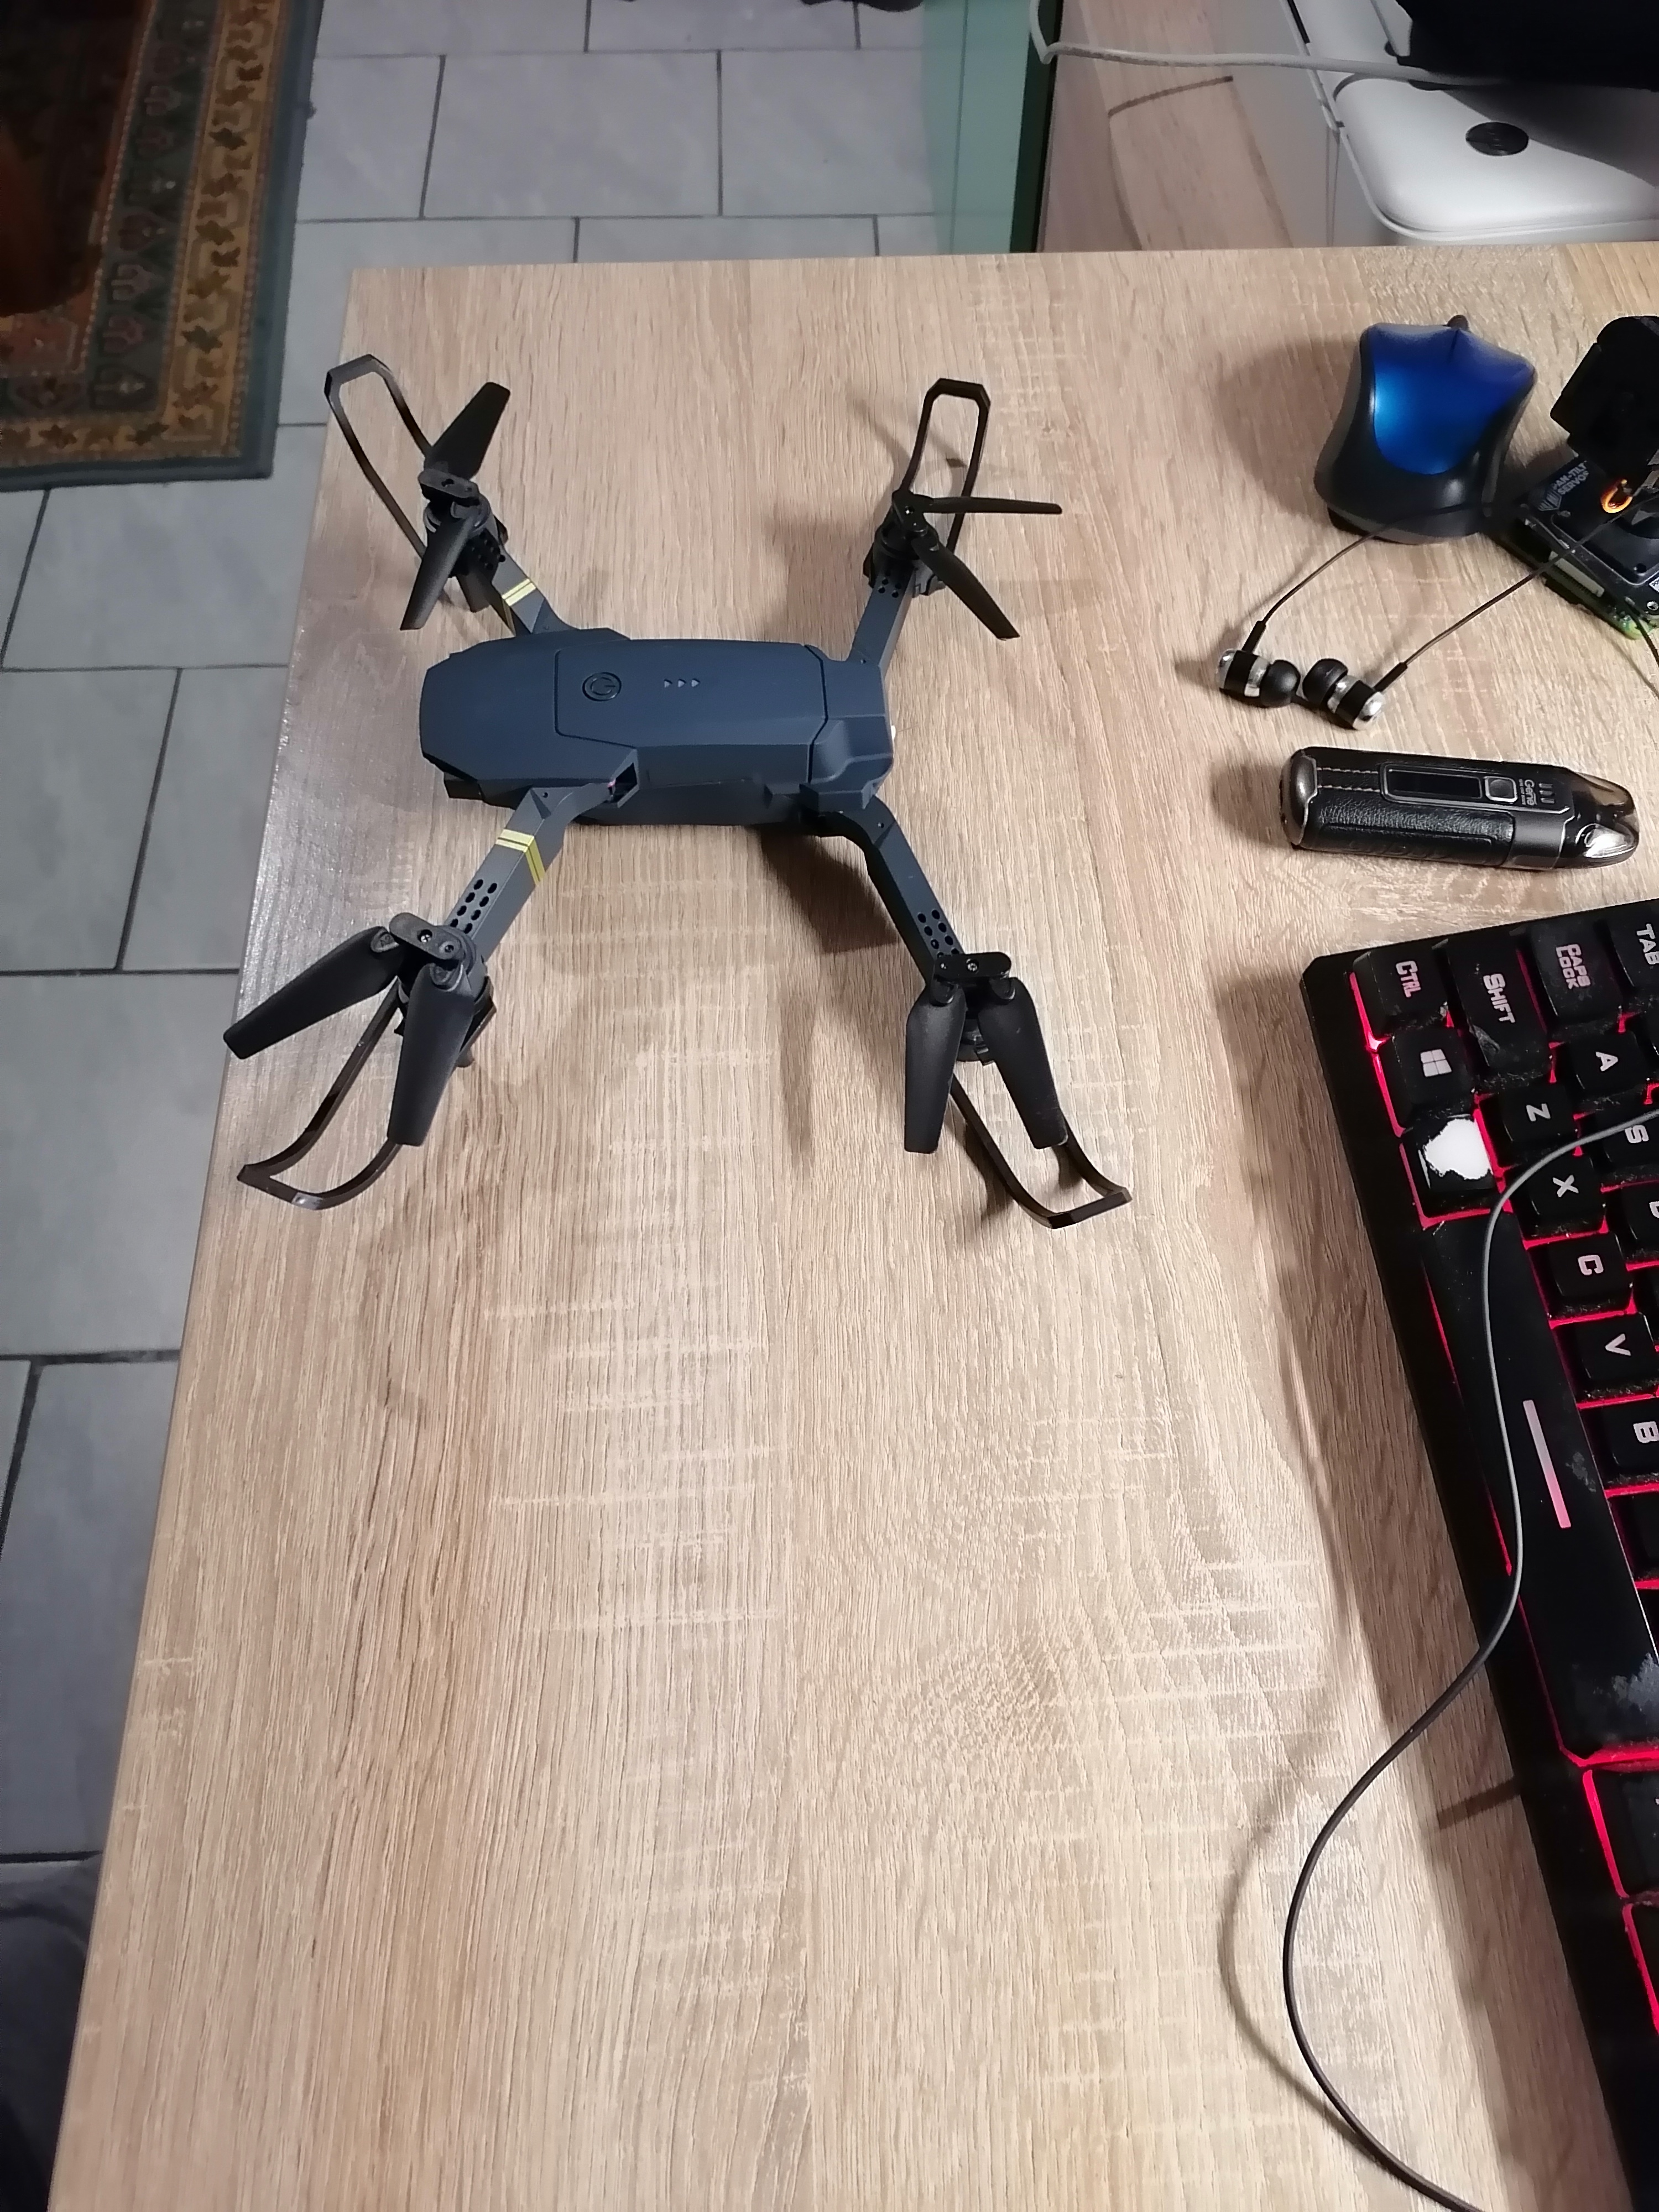drone: (279, 334, 1157, 1271)
